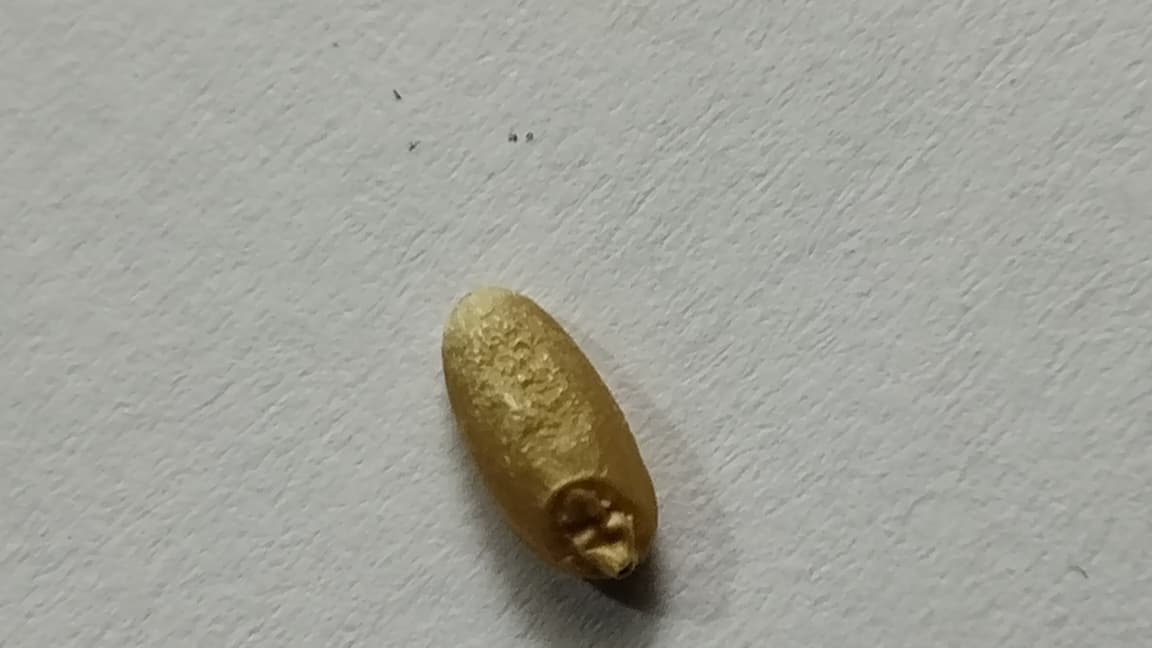healthy: (443, 286, 657, 576)
